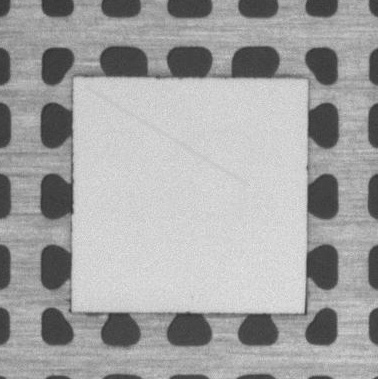DIE_CRACK: (86, 87, 248, 185)
